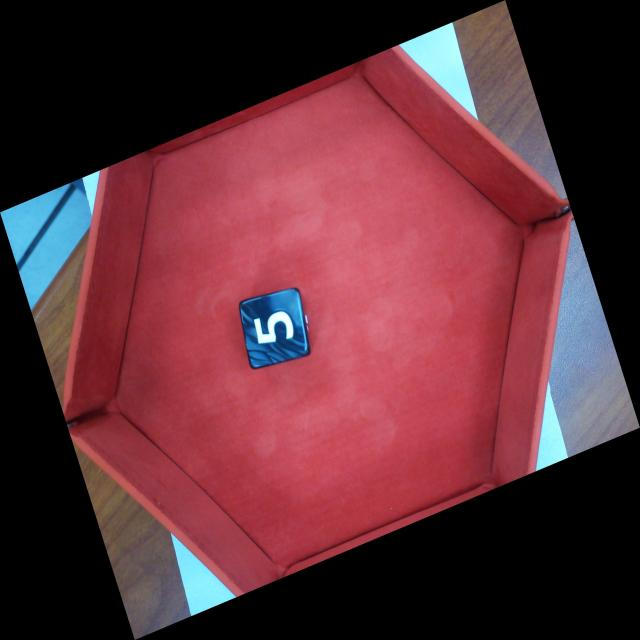dice: (242, 290, 310, 369)
